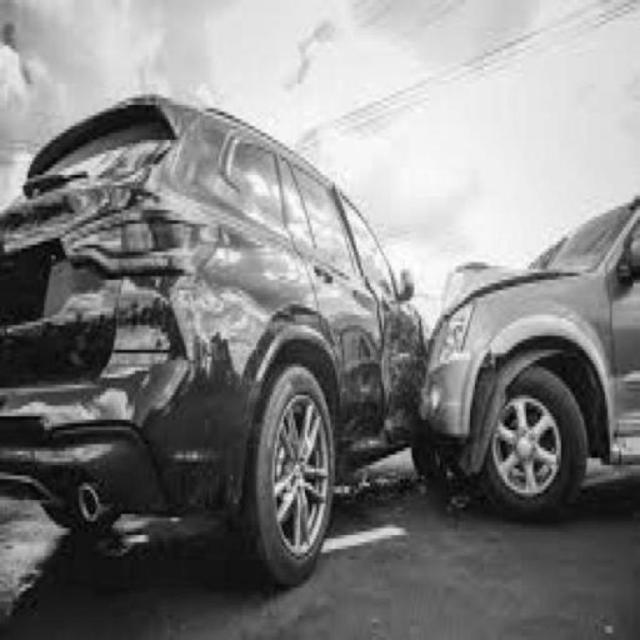accident: (10, 103, 640, 567)
